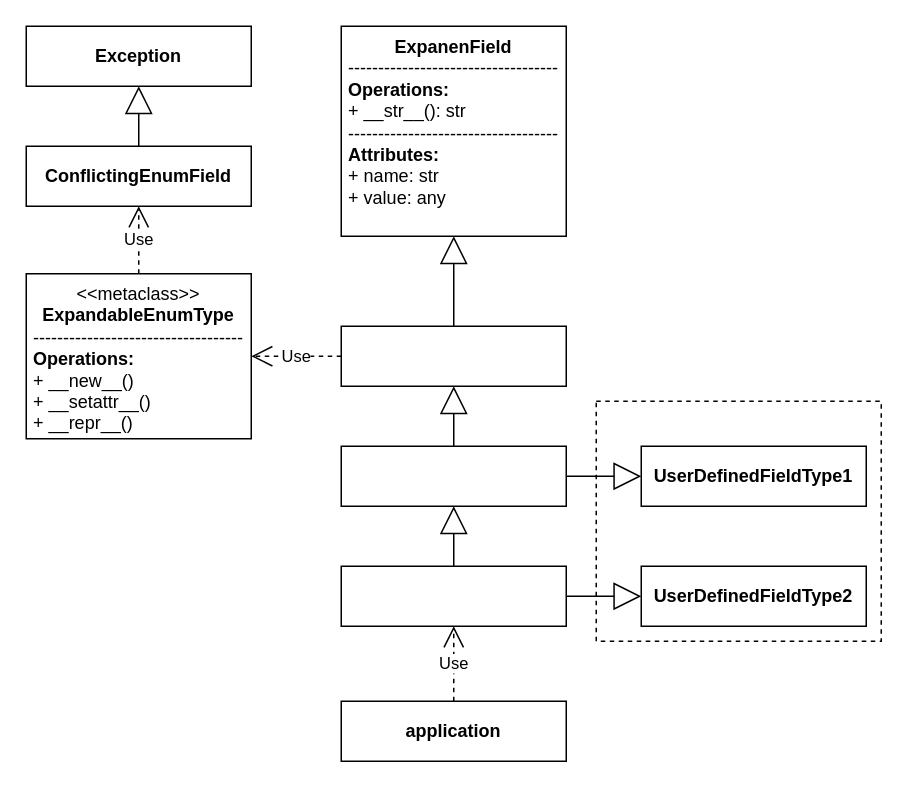
Some shapes in this 908 by 788 pixel diagram are drawn without their labels. Each missing label, with the box of its shape:
Expanen: (340, 325, 566, 386)
Optional: (595, 400, 881, 641)
UserDefinedEnumType1: (340, 445, 566, 506)
UserDefinedEnumType2: (340, 565, 566, 626)
